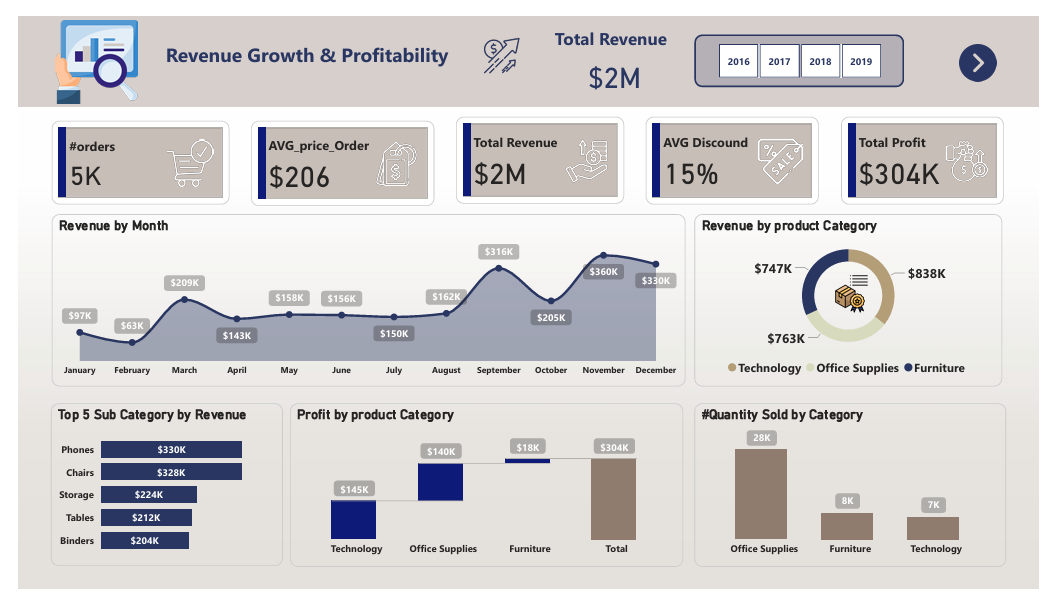

What the dashboard file says about the page in this screenshot:
{"tool":"powerbi","page":{"name":"Sales Overview","canvas":[1280,720],"ordinal":0},"visuals":[{"type":"cardVisual","fields":{"Data":["Measuers (2).#orders"]},"box":[41.8,130.8,223.6,105.3],"z":0},{"type":"cardVisual","fields":{"Data":["Measuers (2).Total Revenue"]},"box":[548.9,126.5,210.6,108.2],"z":1000},{"type":"cardVisual","fields":{"Data":["Measuers (2).AVG_Order"]},"box":[292.5,130.8,229.4,106.8],"z":2000},{"type":"cardVisual","fields":{"Data":["Measuers (2).Total Profit"]},"box":[1031.5,126.5,204.9,109.6],"z":3000},{"type":"lineChart","title":" Revenue by Month","fields":{"Category":["Order.Order Date.Variation.Date Hierarchy.Month"],"Y":["Measuers (2).Total Revenue"]},"box":[42.3,248.2,794.8,216],"z":4000},{"type":"waterfallChart","title":" Profit by  product Category","fields":{"Category":["Productss.Category"],"Y":["Measuers (2).Total Profit"]},"box":[340.6,485.3,493.1,204.8],"z":5000},{"type":"donutChart","title":" Revenue by product Category","fields":{"Y":["Measuers (2).Total Revenue"],"Category":["Productss.Category"]},"box":[848.2,248.2,386.3,216],"z":6000,"group":"g1"},{"type":"columnChart","title":"#Quantity Sold by Category","fields":{"Category":["Productss.Category"],"Y":["Measuers (2).#Quantity"]},"box":[848.2,485.3,390.7,204.8],"z":6000},{"type":"shape","box":[0,0,1280,113.4],"z":7000},{"type":"slicer","fields":{"Values":["Order.Order Date.Variation.Date Hierarchy.Year"]},"box":[848.1,22.9,263,66.4],"z":8000},{"type":"cardVisual","fields":{"Data":["Measuers (2).AVG Discound"]},"box":[786.6,126.5,217.9,109.6],"z":9000},{"type":"textbox","box":[180,26.2,391.2,62.5],"z":10000},{"type":"image","box":[0,0,197.5,113.8],"z":11000},{"type":"textbox","box":[667.5,7.5,160,46.2],"z":12000},{"type":"card","fields":{"Values":["Measuers (2).Total Revenue"]},"box":[688.9,49.5,118.2,49.5],"z":13000},{"type":"image","box":[561.2,20.2,89.5,59.2],"z":14000},{"type":"image","box":[1166.6,30.2,73.6,56.7],"z":15000},{"type":"image","box":[1015.2,317.2,60.1,61.2],"z":16000,"group":"g1"},{"type":"barChart","title":" Top 5 Sub Category by Revenue","fields":{"Category":["Order.Sub-Category"],"Y":["Measuers (2).Total Revenue"]},"box":[41.2,485.3,290.5,203.7],"z":16000},{"type":"group","id":"g1","title":"Group 1","box":[848.2,248.2,386.3,216],"z":17000}]}

Visuals, with their boxes in screenshot pixels (x1, y1, x2, y2), scaled from the page's 1280x720 canvas onto the 1055x607 screenshot:
cardVisual - Measuers (2).#orders: l=34, t=110, r=219, b=199
cardVisual - Measuers (2).Total Revenue: l=452, t=107, r=626, b=198
cardVisual - Measuers (2).AVG_Order: l=241, t=110, r=430, b=200
cardVisual - Measuers (2).Total Profit: l=850, t=107, r=1019, b=199
" Revenue by Month" lineChart: l=35, t=209, r=690, b=391
" Profit by  product Category" waterfallChart: l=281, t=409, r=687, b=582
" Revenue by product Category" donutChart: l=699, t=209, r=1017, b=391
"#Quantity Sold by Category" columnChart: l=699, t=409, r=1021, b=582
shape: l=0, t=0, r=1054, b=96
slicer - Order.Order Date.Variation.Date Hierarchy.Year: l=699, t=19, r=916, b=75
cardVisual - Measuers (2).AVG Discound: l=648, t=107, r=828, b=199
textbox: l=148, t=22, r=471, b=75
image: l=0, t=0, r=163, b=96
textbox: l=550, t=6, r=682, b=45
card - Measuers (2).Total Revenue: l=568, t=42, r=665, b=83
image: l=463, t=17, r=536, b=67
image: l=962, t=25, r=1022, b=73
image: l=837, t=267, r=886, b=319
" Top 5 Sub Category by Revenue" barChart: l=34, t=409, r=273, b=581
"Group 1" group: l=699, t=209, r=1017, b=391
